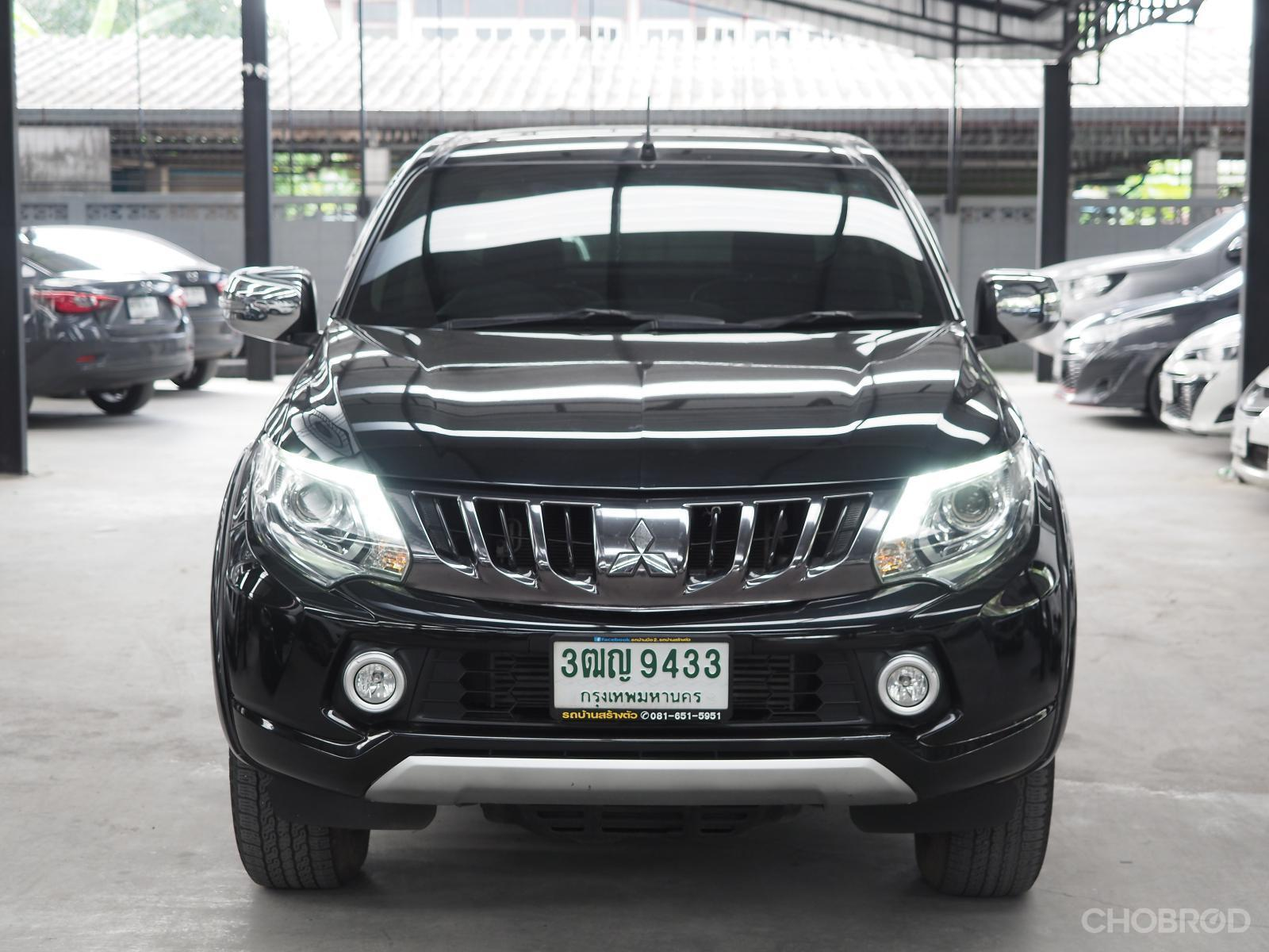license-plate: (549, 627, 733, 726)
